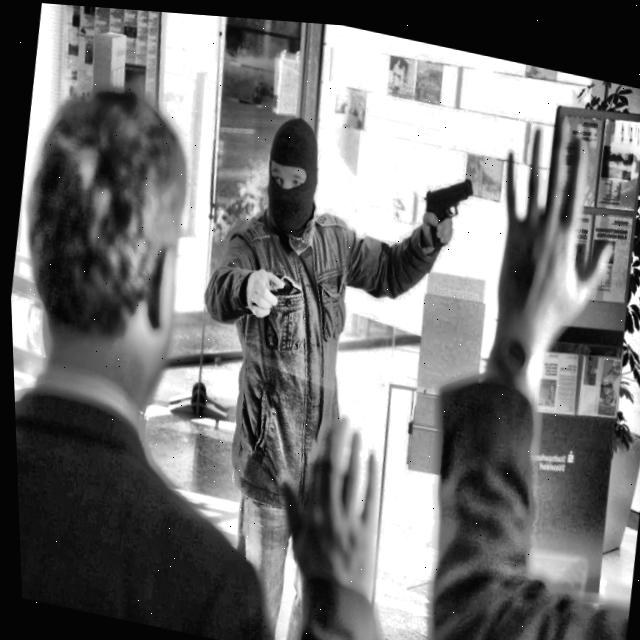pistol: (398, 150, 485, 297)
robbery: (1, 35, 640, 640)
